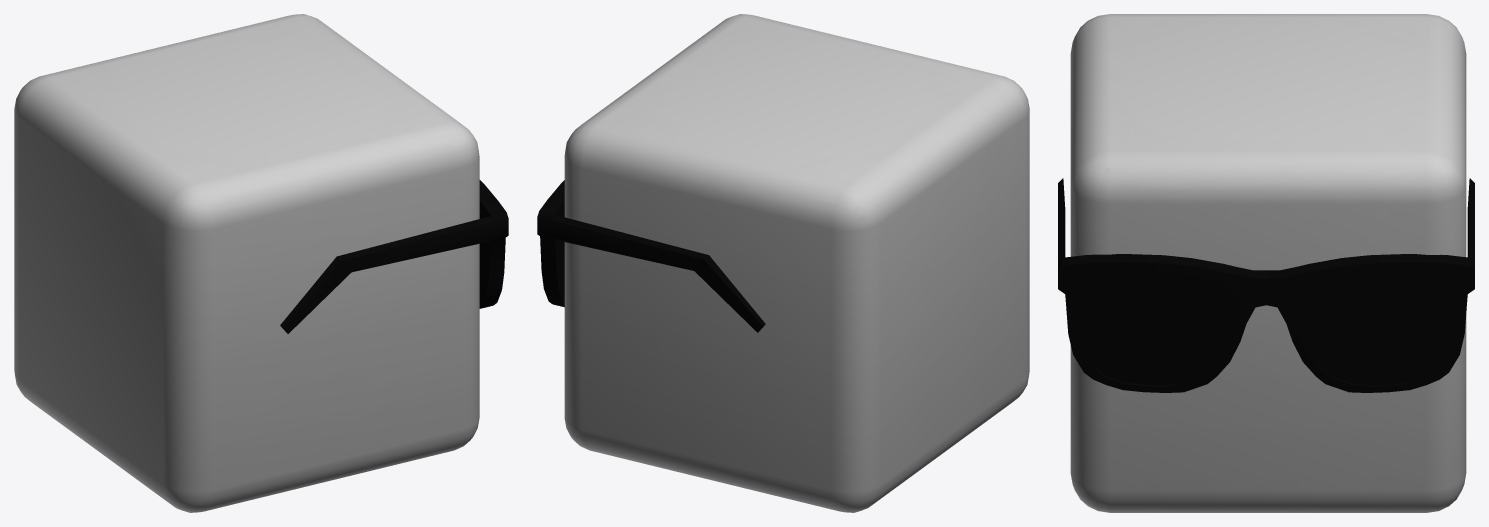
The model's file is cube_sunglasses.glb.
3 renders of one model, left to right at view 1: azimuth 30°, elevation 25°; view 2: azimuth 150°, elevation 25°; view 3: azimuth 270°, elevation 25°, orthographic. The views are drawn at different scales.
Parts seen in each view (by area): view 1: cube_sunglasses; view 2: cube_sunglasses; view 3: cube_sunglasses.
Boxes of the visible parts, <box> form: cube_sunglasses: <box>14,14,508,512</box>; cube_sunglasses: <box>537,14,1029,512</box>; cube_sunglasses: <box>1058,14,1474,512</box>.
Bounding box in the file's own units: 2.16 × 2 × 2.11.
2 materials, 2 textured.
